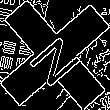N_NE: (23, 23, 87, 87)
